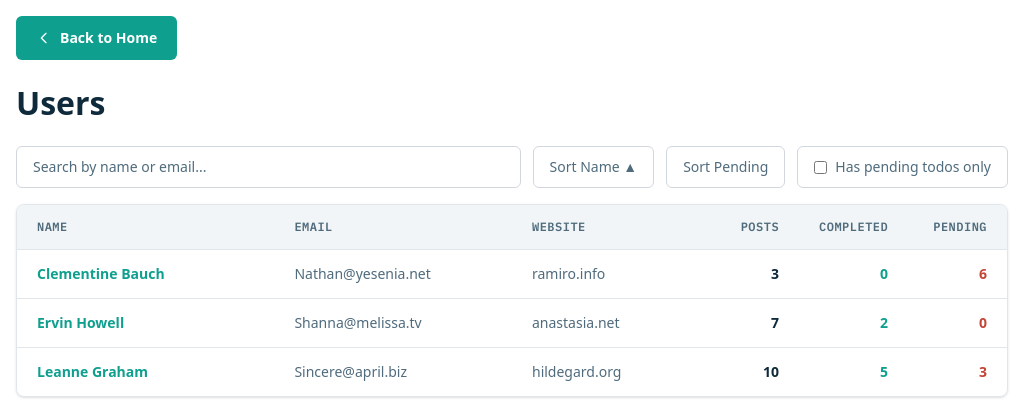
Test: UsersList › filters users by email through search input
This screenshot has width=1024, height=415.
Step 1. Type "Sincere@april.biz" into the search field named "search users" → point(268, 167), box top-left (16, 146), bottom-right (520, 188)
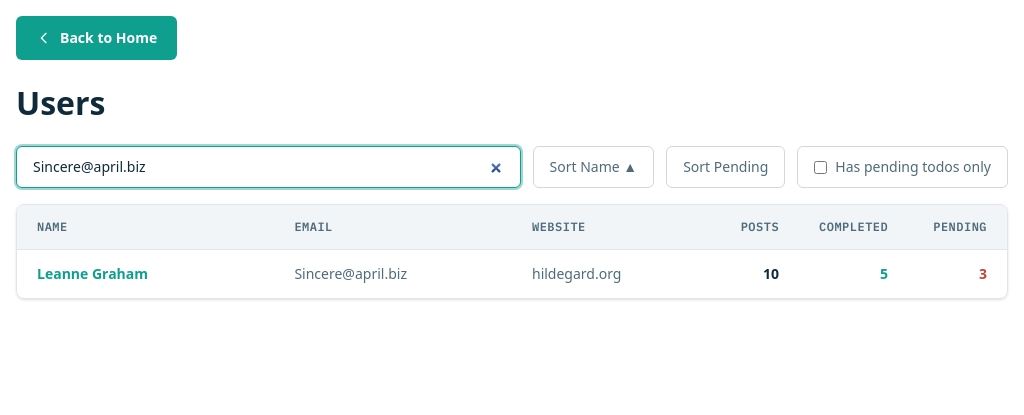
expect the link "Leanne Graham" is shown: met, box top-left (37, 264), bottom-right (148, 283)
expect the link "Ervin Howell" is gone: met
